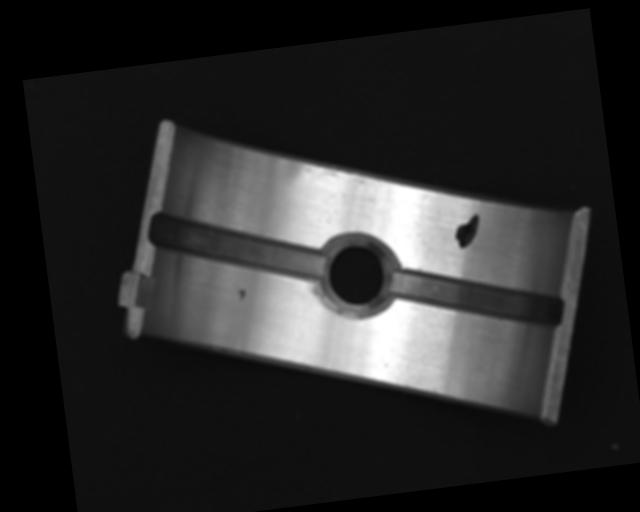blot: (452, 213, 484, 250)
bruise: (237, 287, 247, 302)
gap: (150, 195, 327, 300), (390, 252, 568, 347)
hole: (316, 232, 400, 322)
